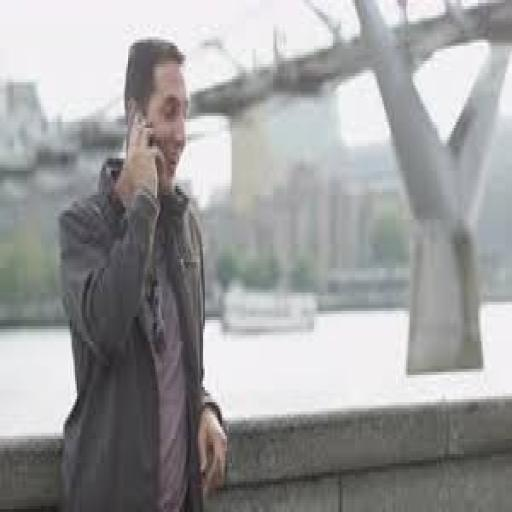calling: (54, 33, 230, 509)
